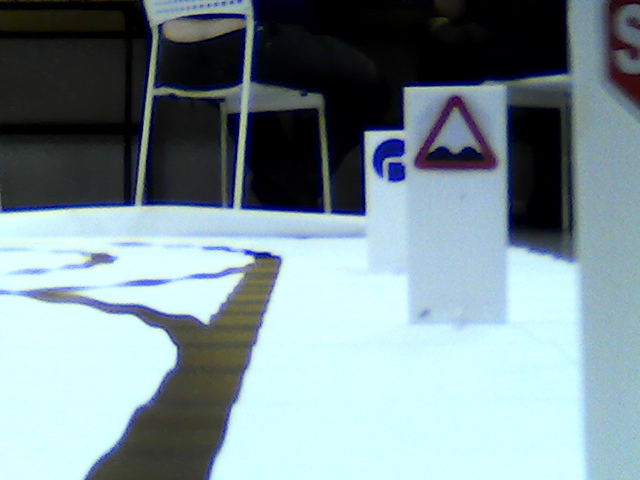Nerov: (413, 94, 498, 172)
Right: (371, 137, 408, 181)
